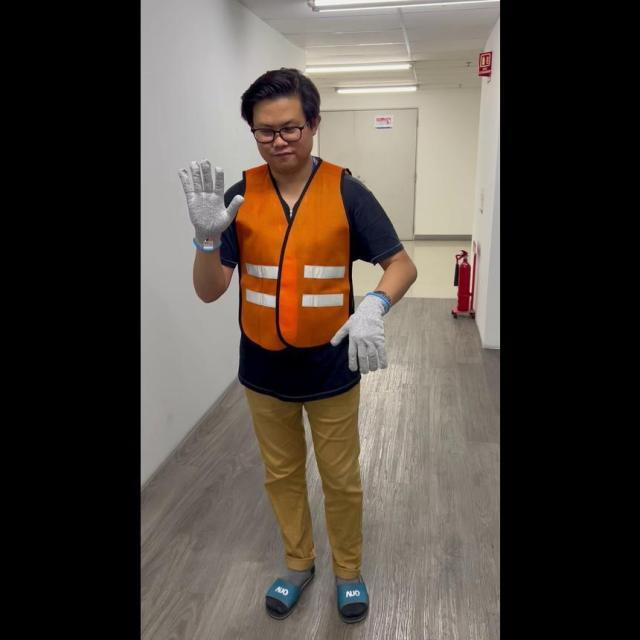gloved_hand: (177, 153, 243, 246), (329, 287, 391, 374)
